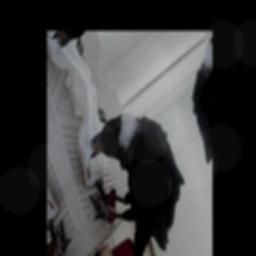Crow: (71, 79, 199, 256)
